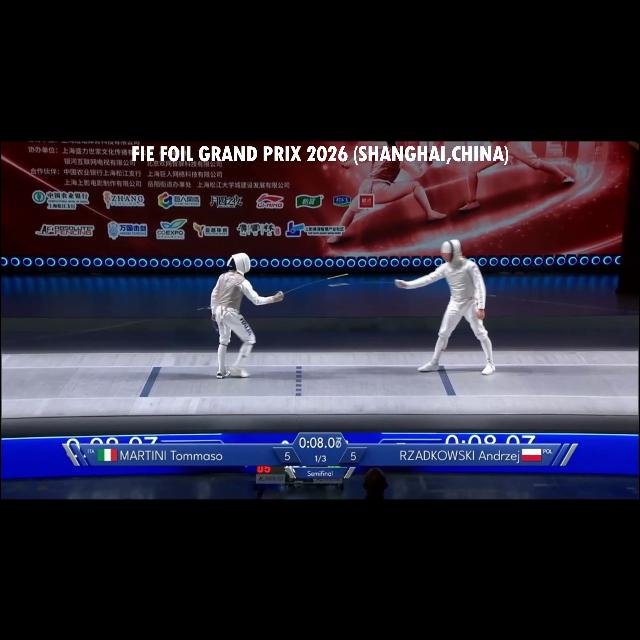blade: (272, 270, 351, 306), (324, 279, 406, 291)
